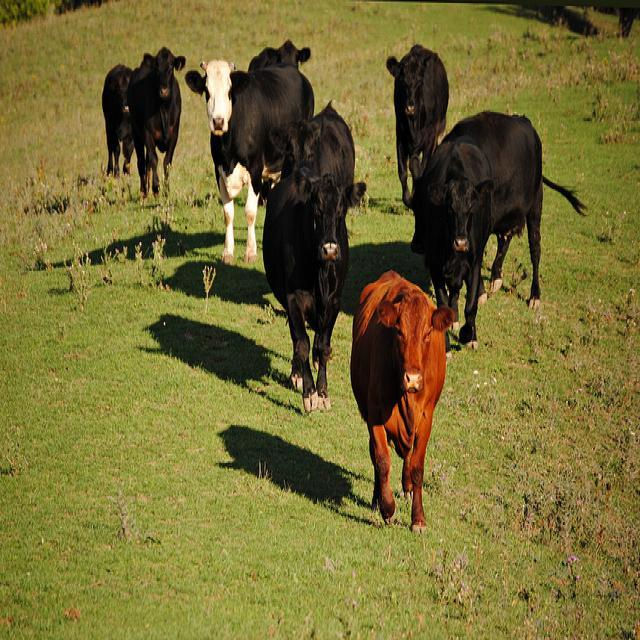cow: (256, 97, 369, 411), (438, 108, 587, 307), (183, 37, 313, 264), (350, 265, 458, 534), (419, 133, 491, 353), (386, 39, 449, 253), (127, 41, 185, 206), (99, 58, 133, 179)
